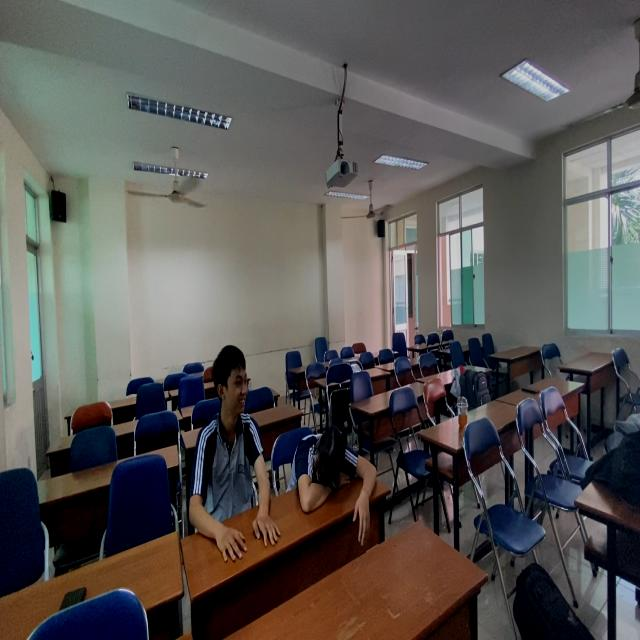sleep: (286, 416, 380, 515)
